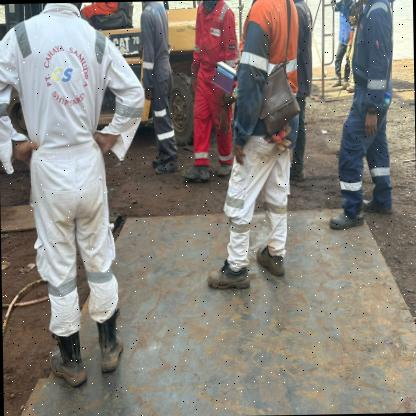bota: (43, 334, 86, 390), (93, 310, 125, 370), (325, 200, 366, 237), (208, 260, 248, 294), (253, 244, 287, 284), (360, 189, 392, 221), (180, 162, 210, 181), (154, 158, 180, 174), (216, 162, 232, 178)
